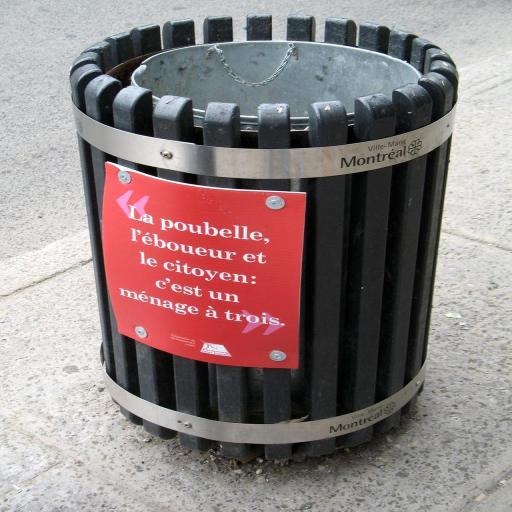trash-can: (68, 8, 467, 466)
